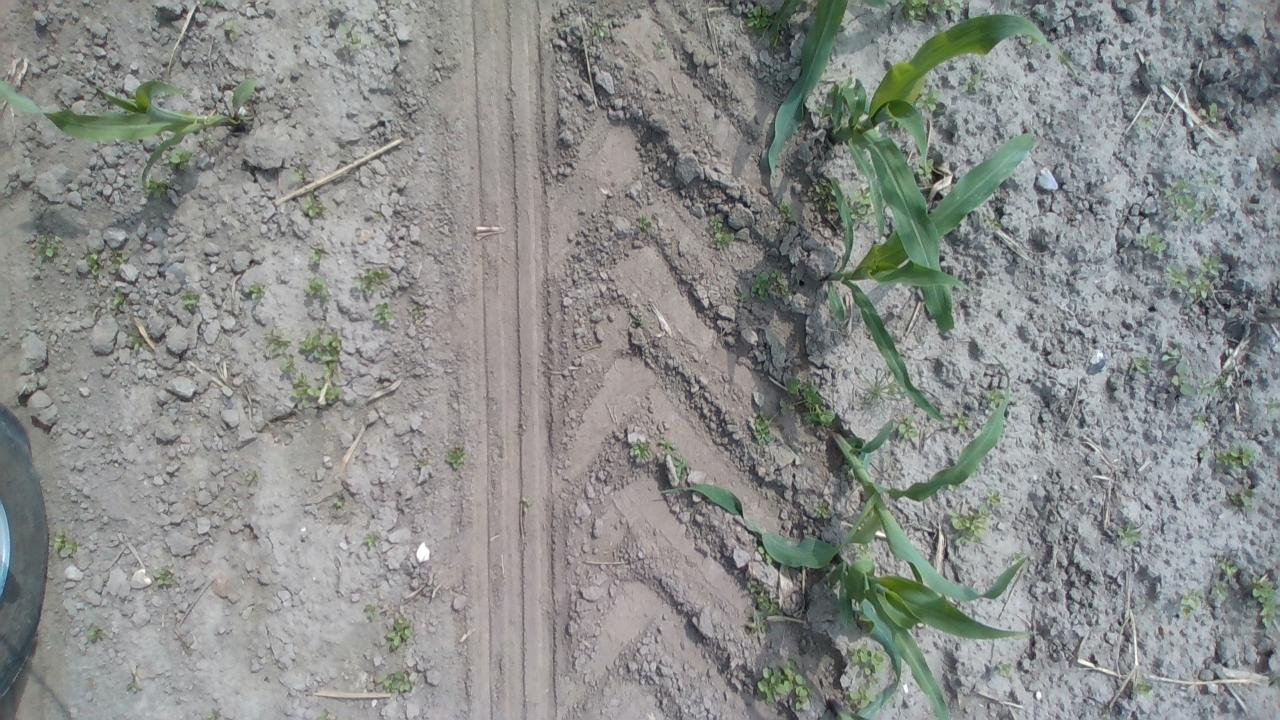Maize: (662, 356, 1027, 613), (823, 11, 1079, 340), (816, 132, 1043, 423), (806, 544, 1042, 718), (0, 70, 255, 188), (757, 0, 898, 176)
Weeds: (260, 324, 346, 405), (755, 658, 814, 712), (778, 374, 836, 428), (948, 490, 1002, 546), (1162, 174, 1216, 226), (1164, 253, 1221, 300), (744, 578, 784, 633), (846, 641, 890, 688), (1160, 346, 1196, 398), (858, 370, 909, 405), (751, 264, 794, 302), (894, 0, 960, 23), (1204, 442, 1258, 470), (1250, 572, 1276, 630), (352, 264, 391, 296), (846, 182, 874, 224), (384, 615, 414, 650), (743, 1, 770, 38), (376, 668, 413, 694), (302, 274, 332, 306), (708, 214, 734, 250), (337, 21, 371, 48), (813, 175, 838, 211), (34, 233, 64, 263), (1197, 371, 1230, 398), (750, 412, 776, 446), (167, 144, 195, 175), (1134, 230, 1168, 255), (52, 528, 80, 558), (1180, 588, 1206, 620), (144, 175, 176, 200), (845, 687, 879, 710), (1116, 520, 1142, 548), (952, 408, 978, 436), (896, 411, 920, 441), (1228, 486, 1256, 510), (303, 192, 328, 218), (918, 84, 942, 111), (628, 439, 653, 464), (778, 196, 800, 224), (82, 246, 102, 276), (372, 301, 398, 324), (960, 68, 984, 92), (984, 388, 1008, 412), (444, 445, 467, 470), (125, 664, 144, 692), (108, 248, 130, 272), (221, 16, 241, 42), (916, 156, 934, 184), (1129, 354, 1153, 375), (673, 453, 692, 479), (1198, 101, 1218, 124), (181, 289, 201, 310), (1132, 679, 1154, 698), (153, 569, 175, 588), (628, 311, 648, 331), (813, 501, 834, 520), (1218, 558, 1240, 576), (86, 623, 106, 642), (589, 19, 610, 37), (248, 281, 266, 301), (286, 166, 306, 184), (756, 546, 774, 566), (658, 440, 680, 456), (982, 214, 1002, 231), (111, 288, 128, 307), (1214, 580, 1230, 600), (128, 334, 144, 354), (854, 542, 871, 560), (996, 660, 1014, 677), (1021, 34, 1040, 50), (309, 246, 325, 265), (361, 532, 379, 548), (518, 494, 532, 514), (1264, 398, 1277, 419), (1192, 412, 1208, 429), (653, 37, 668, 55), (636, 214, 652, 230), (196, 131, 212, 144), (1140, 115, 1154, 129), (245, 468, 258, 482), (1010, 551, 1024, 564), (332, 496, 346, 509), (364, 605, 377, 618), (735, 288, 747, 302), (415, 457, 430, 468), (316, 710, 333, 719), (205, 709, 220, 719), (198, 0, 218, 6)
